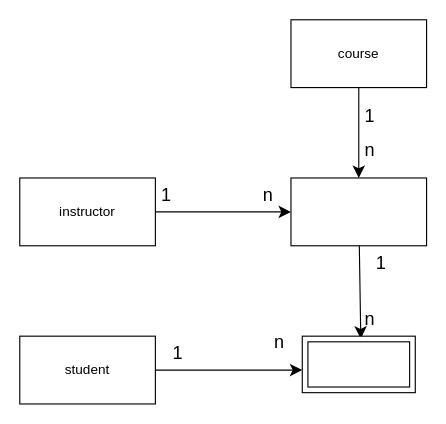
Some shapes in this 446 by 424 pixel diagram are drawn without their labels. Here are the shapes that lost their labels. From the top down, the centre of each, then its label:
At (358,211): "class_section".
At (358,364): "enrollment".
